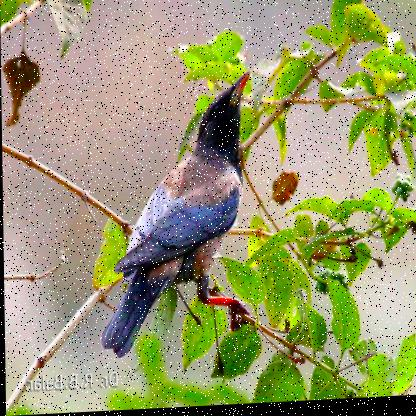Burung: (96, 71, 256, 355)
